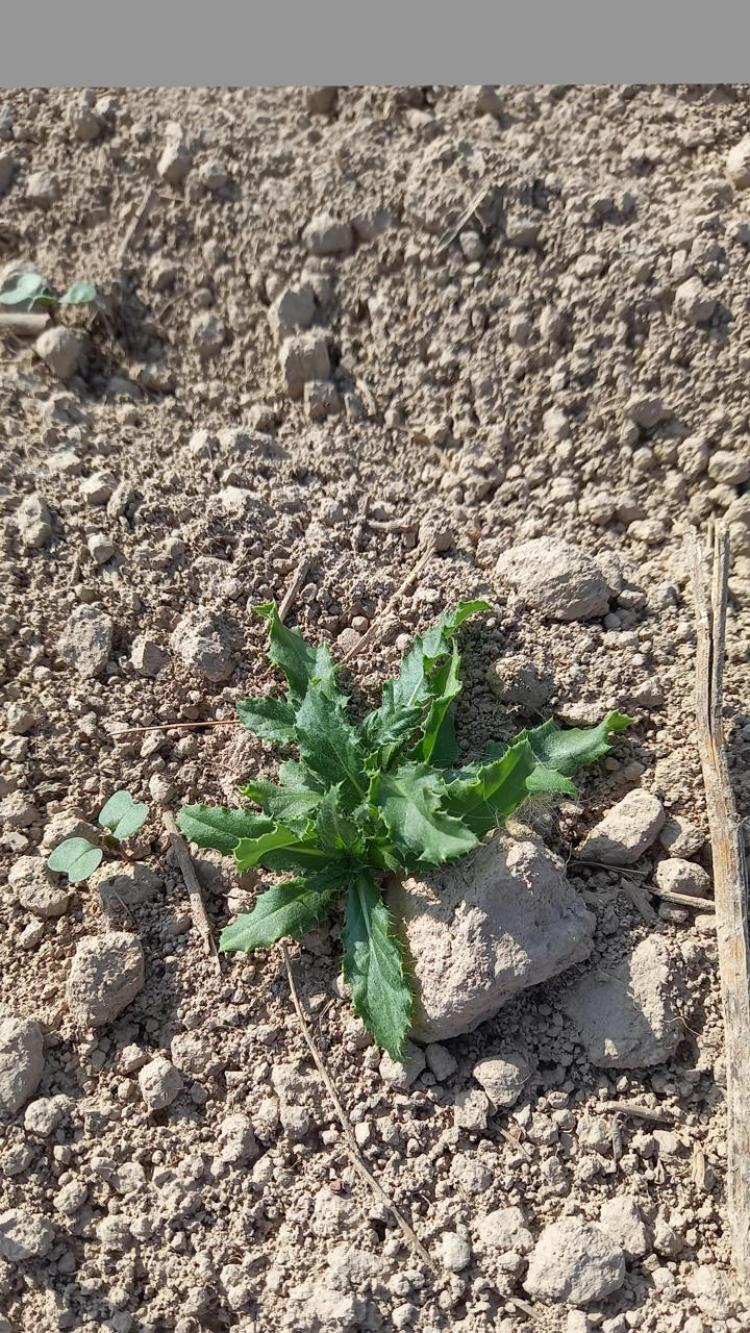bodyak: (192, 598, 636, 1048)
